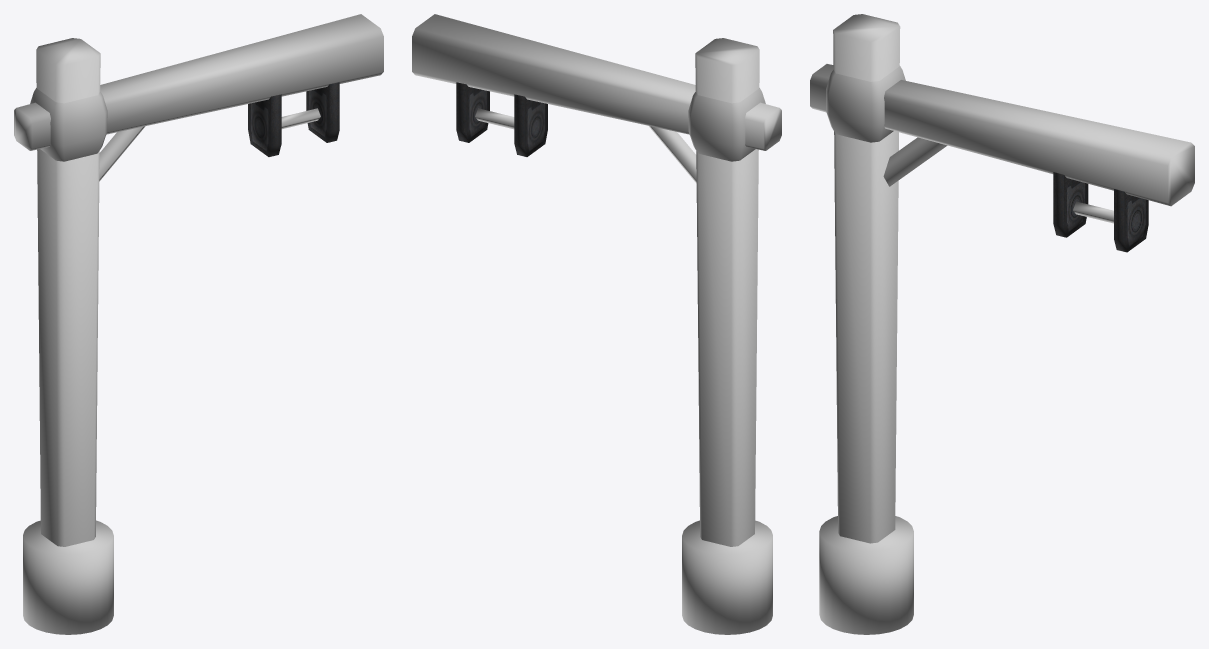
The model's file is Pulley_base_Low_wood.fbx.
The picture shows the model from 3 angles, left to right: view 1: azimuth 30°, elevation 25°; view 2: azimuth 150°, elevation 25°; view 3: azimuth 330°, elevation 25°; orthographic projection. The views are drawn at different scales.
Parts seen in each view (by area): view 1: cmn_obj_pulleystand_HD.000; view 2: cmn_obj_pulleystand_HD.000; view 3: cmn_obj_pulleystand_HD.000.
Part boxes in pixels (box(x1,y1,x2,y2)): cmn_obj_pulleystand_HD.000: box(14, 14, 383, 634); cmn_obj_pulleystand_HD.000: box(412, 14, 781, 634); cmn_obj_pulleystand_HD.000: box(810, 14, 1194, 634).
Size of the model in its own units: 1.77 by 2.74 by 0.4.
